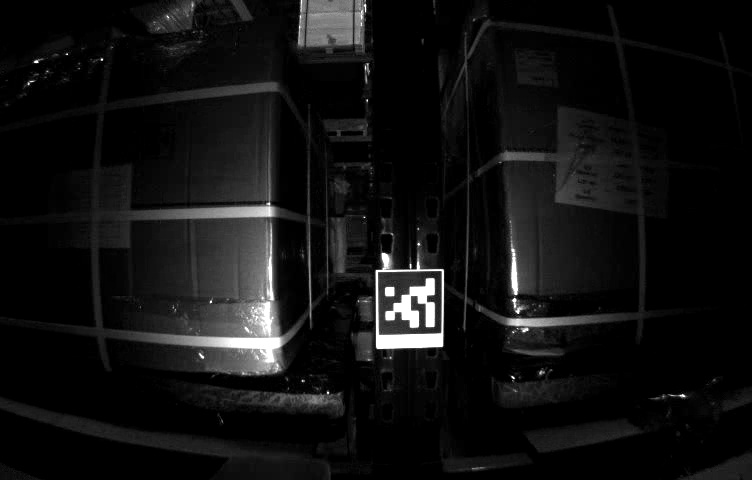True Barcode: (515, 49, 560, 88)
